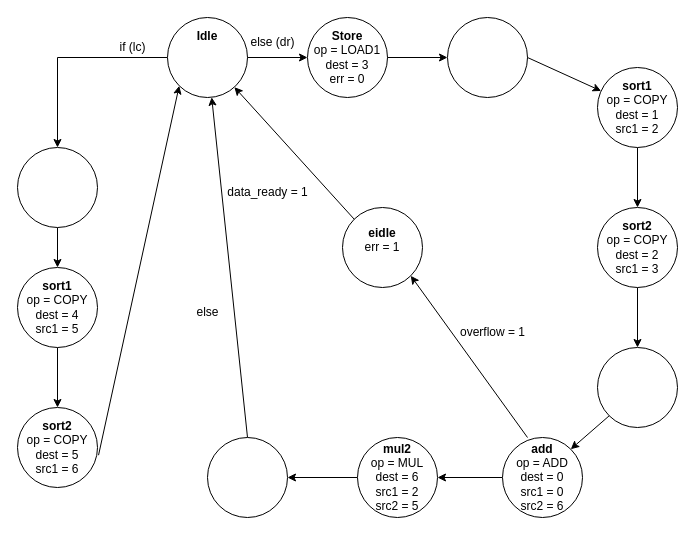
This 695x535 diagram has some shape labels left out. Here are the shapes that lost their labels. From the top down, the centre of each, then its label:
[487,57]: Zero op = SUB src1 = 0 src2 = 0 det = 0
[57,187]: Store op = LOAD2 dest = 3 err = 0
[637,387]: mull op = MUL dest = 7 src1 = 1 src2 = 4
[247,477]: sub op = SUB dest = 0 src1 = 0 src2 = 6
